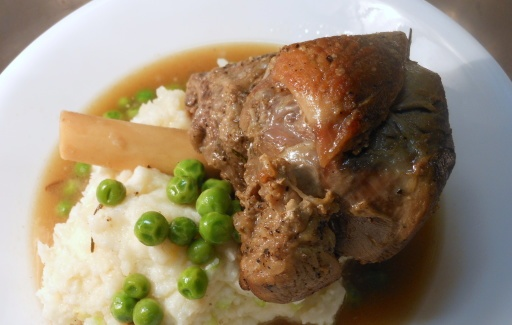background: (28, 13, 365, 165)
